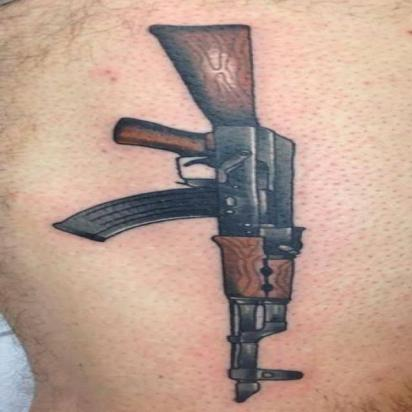Gun: (42, 19, 310, 406)
